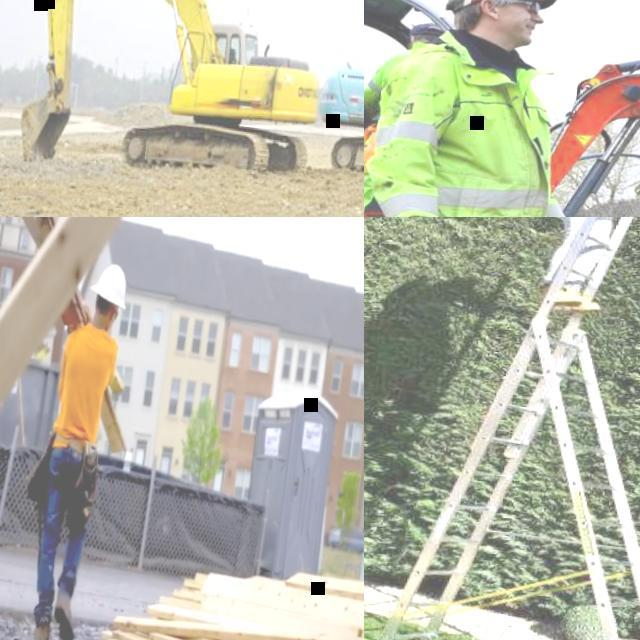helmet: (88, 261, 130, 310)
vest: (364, 35, 573, 217), (364, 94, 557, 217), (372, 40, 455, 121)
